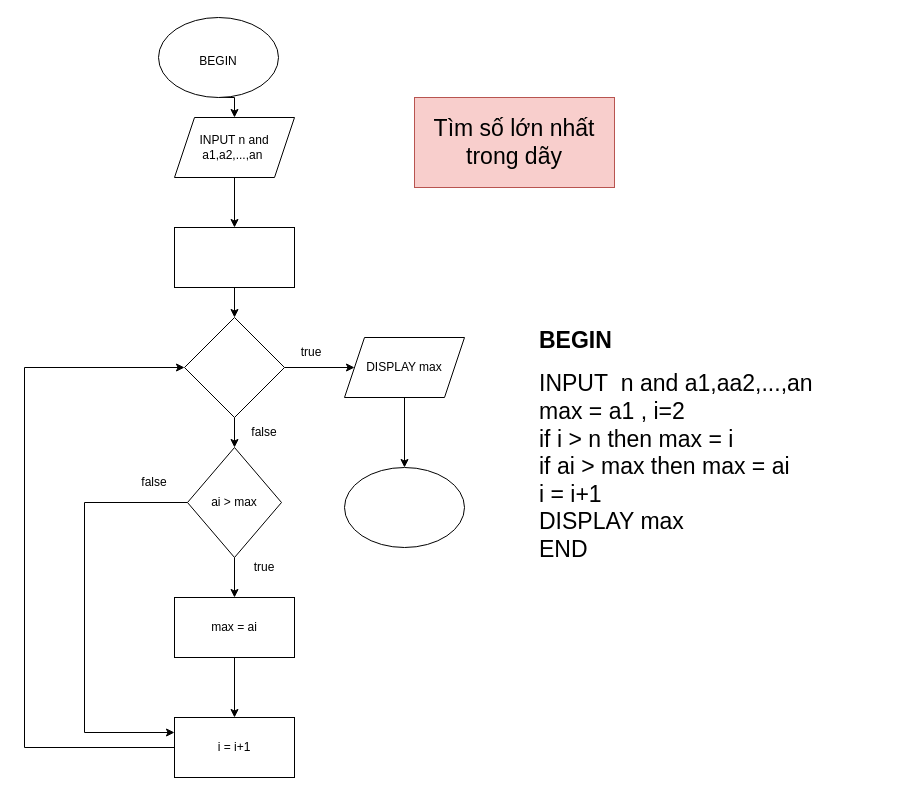
Some shapes in this 912 by 795 pixel diagram are drawn without their labels. Each missing label, with the centre of its shape:
END: point 404,507
if (i > n): point 234,367
max = a1 , i =2: point 234,257
